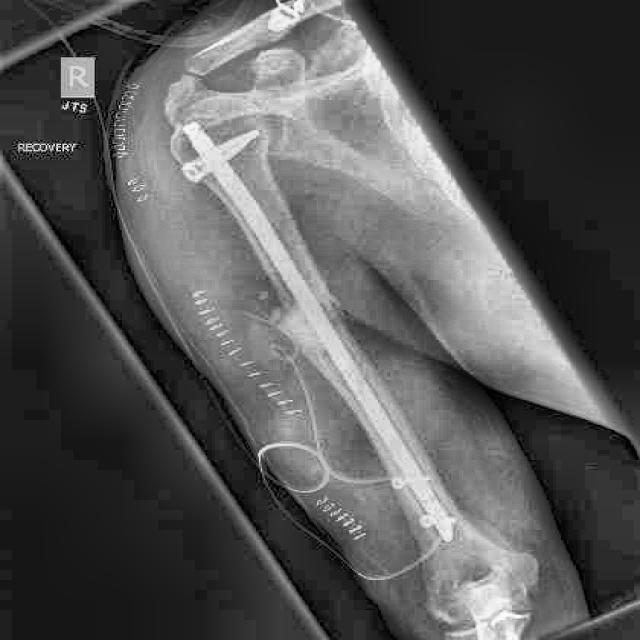humerus: (238, 243, 400, 397)
